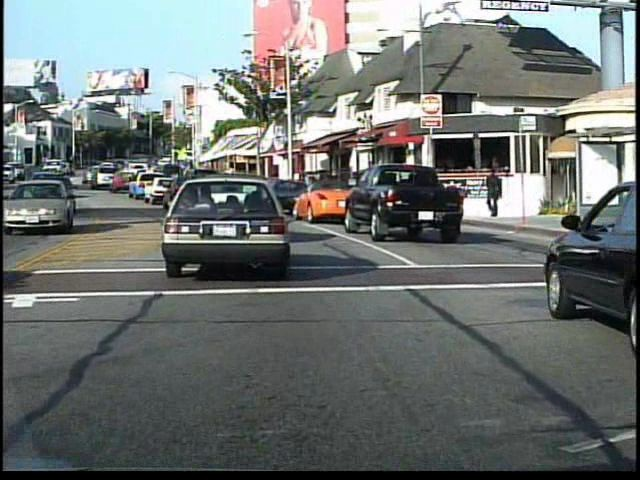person: (482, 169, 502, 223)
